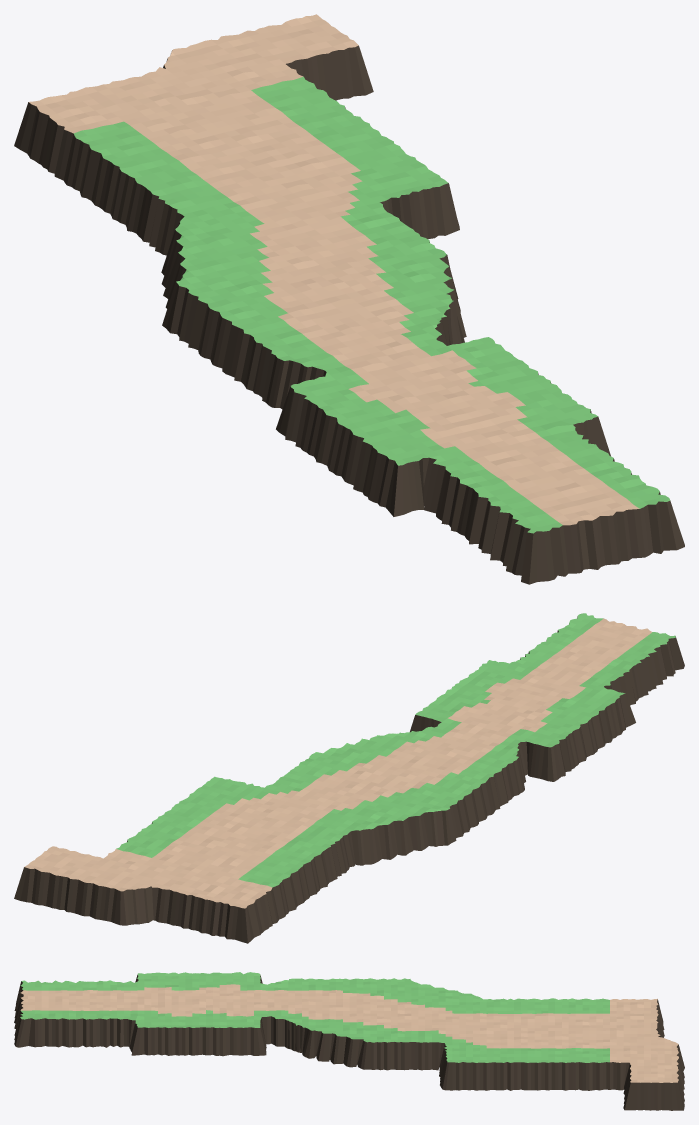
File: WorldSectionOne.fbx
3 views of the same model, one above another, from view 1: azimuth 30°, elevation 25°; view 2: azimuth 150°, elevation 25°; view 3: azimuth 270°, elevation 25° (orthographic). The views are drawn at different scales.
Parts seen in each view (by area): view 1: Plane; view 2: Plane; view 3: Plane.
Part boxes in pixels (x1,y1,x2,y2): Plane: (14,14,684,584); Plane: (14,613,684,943); Plane: (14,972,684,1110).
Size of the model in its own units: 8745 by 940 by 21438.
